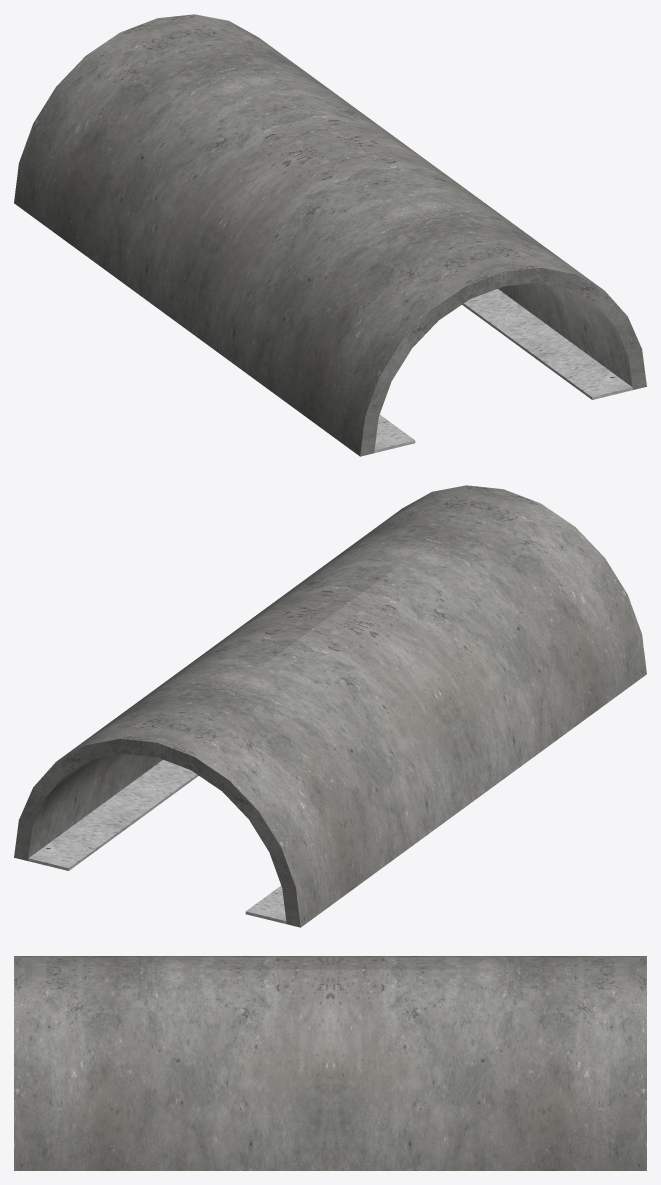
Rendered from tunnel.FBX.
3 renders of one model, top to bottom at view 1: azimuth 30°, elevation 25°; view 2: azimuth 150°, elevation 25°; view 3: azimuth 270°, elevation 25°, orthographic. The views are drawn at different scales.
Visible parts, largest first — view 1: Tube001; view 2: Tube001; view 3: Tube001.
Boxes of the visible parts, box(x1,y1,x2,y2) form: Tube001: box(14, 14, 646, 456); Tube001: box(14, 485, 646, 927); Tube001: box(14, 956, 646, 1170).
Bounding box in the file's own units: 456 × 228 × 953.
